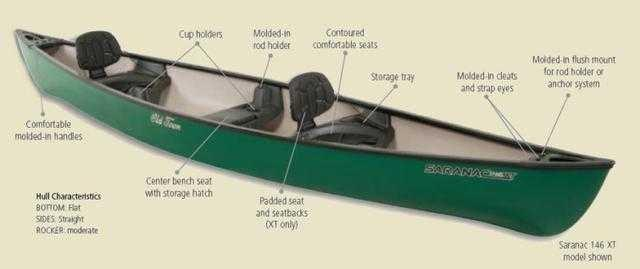kayak: (8, 21, 618, 241)
